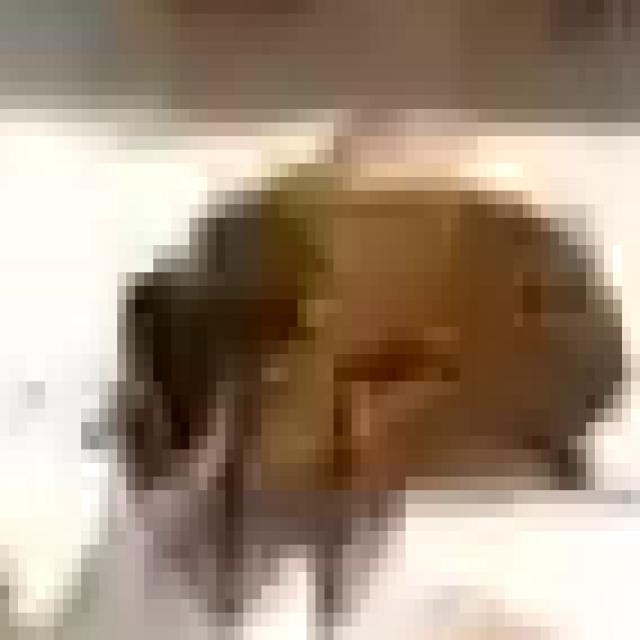honeybee: (84, 130, 638, 617)
